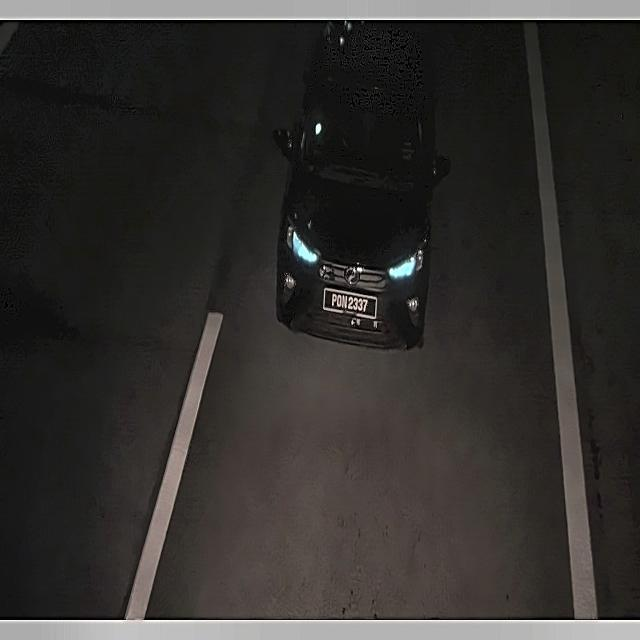car: (320, 282, 382, 327)
